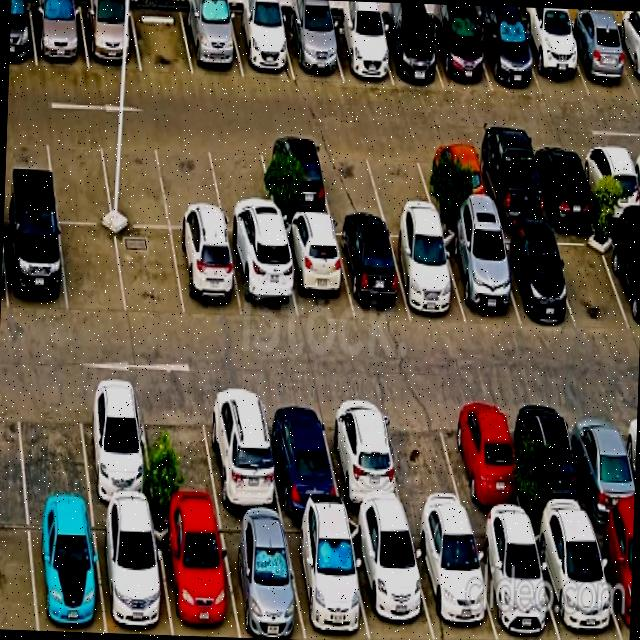empty: (378, 398, 468, 520), (139, 386, 219, 512), (15, 383, 90, 506), (549, 225, 631, 327), (207, 137, 278, 233), (99, 133, 169, 228), (115, 227, 184, 319), (157, 135, 224, 229), (45, 130, 112, 223), (59, 224, 126, 314), (315, 140, 385, 216), (365, 140, 435, 215), (130, 5, 193, 75)
occupied: (217, 515, 305, 640), (154, 512, 239, 637), (347, 518, 434, 640), (283, 517, 369, 640), (470, 522, 559, 640), (408, 522, 497, 640), (531, 522, 620, 640), (443, 398, 526, 523), (320, 395, 405, 517), (92, 509, 172, 635), (201, 389, 281, 514), (261, 392, 341, 514), (27, 508, 104, 633), (77, 383, 153, 509), (514, 398, 591, 522), (565, 400, 635, 522), (492, 228, 573, 325), (440, 228, 520, 326), (387, 224, 465, 324), (334, 222, 410, 319), (280, 221, 353, 321), (171, 230, 242, 318), (226, 233, 297, 320), (3, 216, 66, 313), (472, 144, 546, 223), (419, 142, 490, 220), (260, 139, 331, 217), (563, 24, 637, 98), (518, 23, 589, 97), (529, 144, 597, 219), (474, 19, 541, 94), (591, 522, 633, 640), (427, 18, 492, 91), (579, 144, 640, 220), (376, 20, 443, 88), (229, 11, 294, 80), (180, 8, 243, 78), (328, 18, 392, 85), (79, 4, 141, 71), (603, 225, 640, 332), (29, 2, 88, 69), (282, 17, 342, 80), (612, 27, 640, 98)
